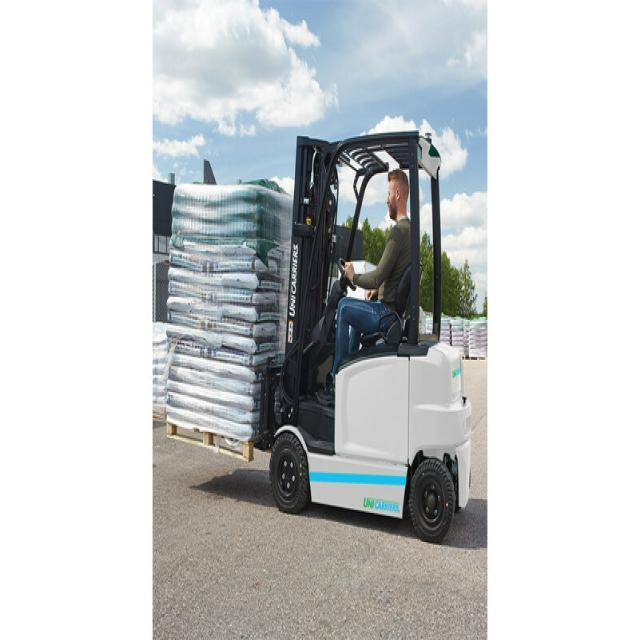driver: (313, 166, 408, 408)
forklift: (271, 125, 476, 547)
